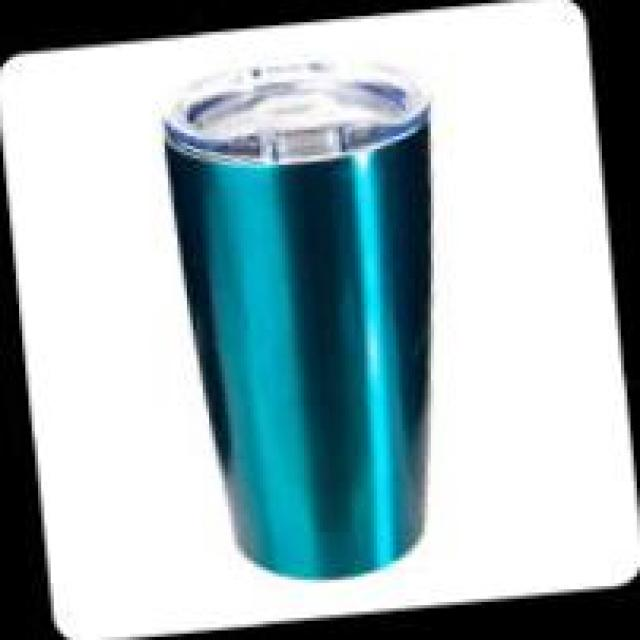bottle: (149, 38, 488, 596)
